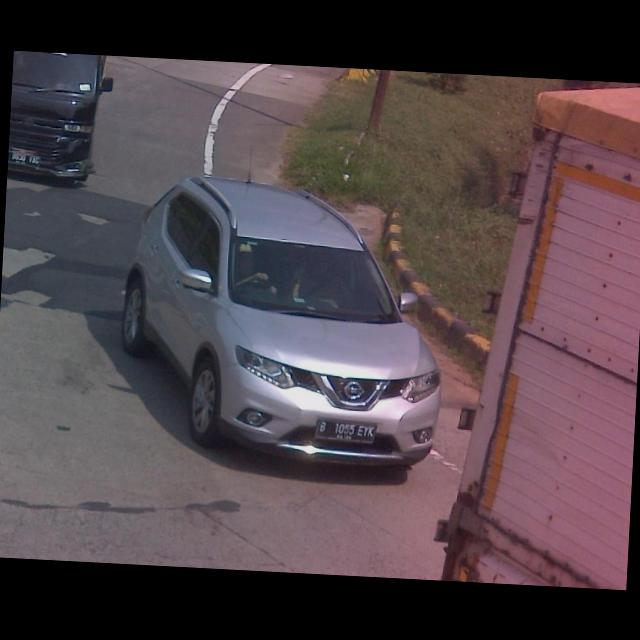plate: (314, 416, 378, 444)
